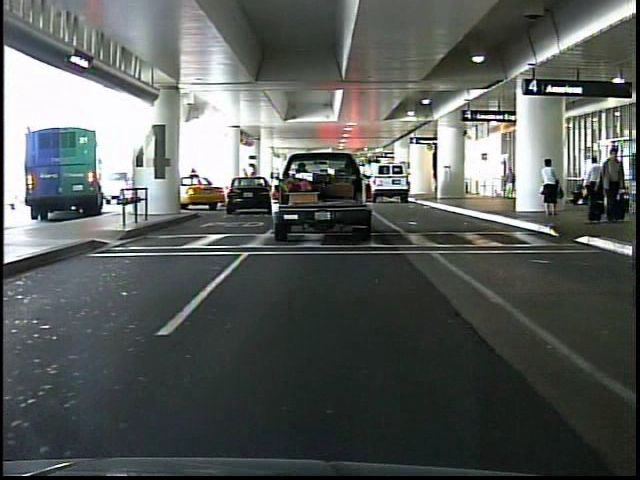person: (596, 145, 626, 227), (537, 156, 562, 217), (584, 154, 608, 215), (499, 164, 516, 206)
